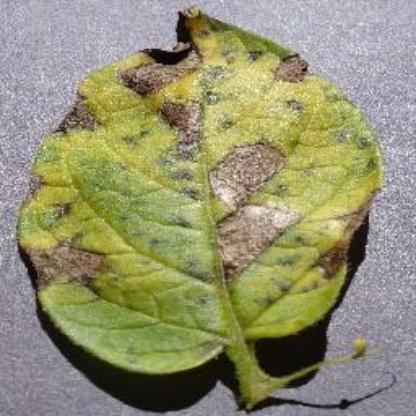Early-Blight: (18, 1, 382, 392)
